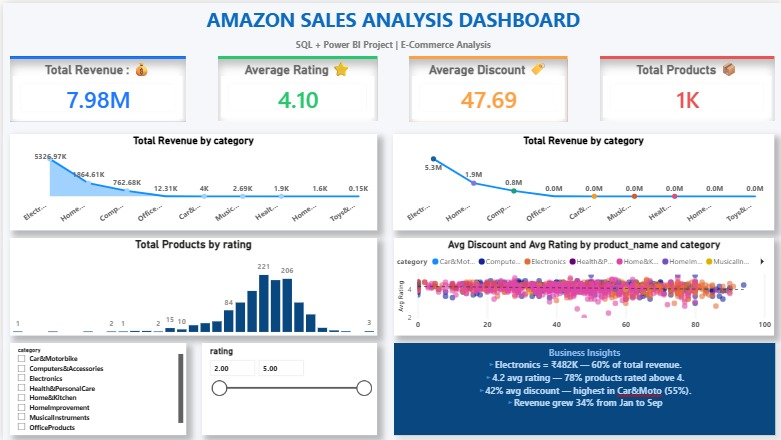

This screenshot's page, from the dashboard's own definition file:
{"tool":"powerbi","page":{"name":"Page 1","canvas":[1280,720],"ordinal":0},"visuals":[{"type":"shape","box":[978.5,87.7,286.2,92.3],"z":0},{"type":"shape","box":[666.2,87.7,260,107.7],"z":1000},{"type":"shape","box":[352.3,86.2,261.5,100],"z":2000},{"type":"shape","box":[11.7,86.7,288.3,108.3],"z":3000},{"type":"textbox","box":[0,0,1279.6,53.1],"z":4000},{"type":"textbox","box":[0,53.1,1279.6,32.7],"z":5000},{"type":"cardVisual","title":"Total Revenue :  💰 ","fields":{"Data":["amazon_cleaned.Total Revenue"]},"box":[11.5,91.8,288.5,103.3],"z":6000},{"type":"cardVisual","title":"Total Products 📦","fields":{"Data":["amazon_cleaned.Total Products"]},"box":[978.3,91.7,286.7,101.7],"z":7000},{"type":"cardVisual","title":"Average Discount 🏷️","fields":{"Data":["amazon_cleaned.Avg Discount"]},"box":[666.1,91.7,260,103.3],"z":8000},{"type":"cardVisual","title":"Average Rating ⭐","fields":{"Data":["amazon_cleaned.Avg Rating"]},"box":[352.2,91.7,261.7,101.7],"z":9000},{"type":"areaChart","fields":{"Category":["amazon_cleaned.category"],"Y":["amazon_cleaned.Total Revenue"]},"box":[11.7,215,601.7,158.3],"z":10000},{"type":"lineChart","fields":{"Category":["amazon_cleaned.category"],"Y":["amazon_cleaned.Total Revenue"]},"box":[640,215,625,158.3],"z":11000},{"type":"clusteredColumnChart","fields":{"Y":["amazon_cleaned.Total Products"],"Category":["amazon_cleaned.rating"]},"box":[11.7,385,601.7,160],"z":12000},{"type":"scatterChart","fields":{"X":["amazon_cleaned.Avg Discount"],"Y":["amazon_cleaned.Avg Rating"],"Category":["amazon_cleaned.product_name"],"Series":["amazon_cleaned.category"]},"box":[641.7,385,623.3,160],"z":13000},{"type":"slicer","fields":{"Values":["amazon_cleaned.category"]},"box":[11.5,557.4,288.5,150.8],"z":14000},{"type":"slicer","fields":{"Values":["amazon_cleaned.rating"]},"box":[326.2,557.4,286.9,150.8],"z":15000},{"type":"textbox","box":[641,557.4,624.6,150.8],"z":16000}]}

Visuals, with their boxes in screenshot pixels (x1, y1, x2, y2), scaled from the page's 1280x720 canvas onto the 781x440 screenshot:
shape: <region>597, 54, 772, 110</region>
shape: <region>406, 54, 565, 119</region>
shape: <region>215, 53, 375, 114</region>
shape: <region>7, 53, 183, 119</region>
textbox: <region>0, 0, 780, 32</region>
textbox: <region>0, 32, 780, 52</region>
"Total Revenue :  💰 " cardVisual: <region>7, 56, 183, 119</region>
"Total Products 📦" cardVisual: <region>597, 56, 772, 118</region>
"Average Discount 🏷️" cardVisual: <region>406, 56, 565, 119</region>
"Average Rating ⭐" cardVisual: <region>215, 56, 375, 118</region>
areaChart - amazon_cleaned.category x amazon_cleaned.Total Revenue: <region>7, 131, 374, 228</region>
lineChart - amazon_cleaned.category x amazon_cleaned.Total Revenue: <region>390, 131, 772, 228</region>
clusteredColumnChart - amazon_cleaned.Total Products x amazon_cleaned.rating: <region>7, 235, 374, 333</region>
scatterChart - amazon_cleaned.Avg Discount x amazon_cleaned.Avg Rating: <region>392, 235, 772, 333</region>
slicer - amazon_cleaned.category: <region>7, 341, 183, 433</region>
slicer - amazon_cleaned.rating: <region>199, 341, 374, 433</region>
textbox: <region>391, 341, 772, 433</region>
